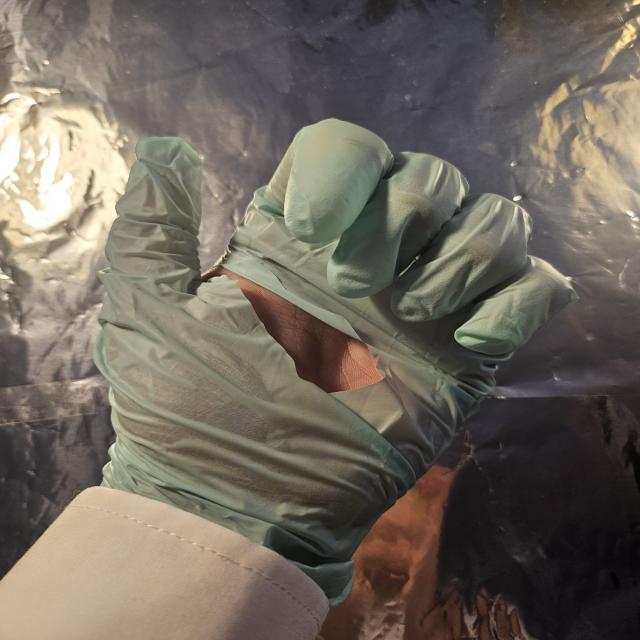gloves_damaged: (89, 113, 574, 586)
